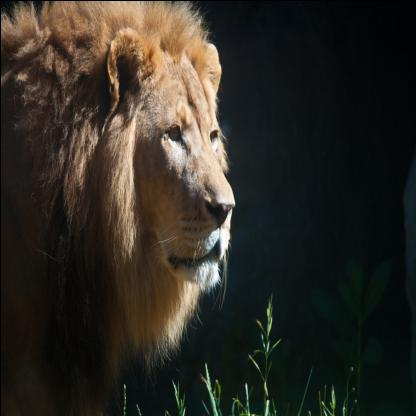lion: (86, 15, 240, 333)
